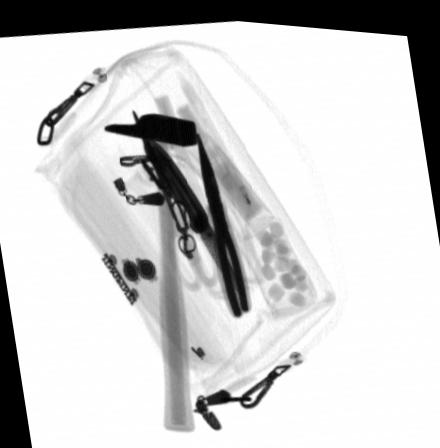Hammer: (103, 108, 200, 429)
Knife: (142, 132, 247, 294)
Pliers: (195, 127, 253, 315)
Scissors: (130, 105, 220, 288)
